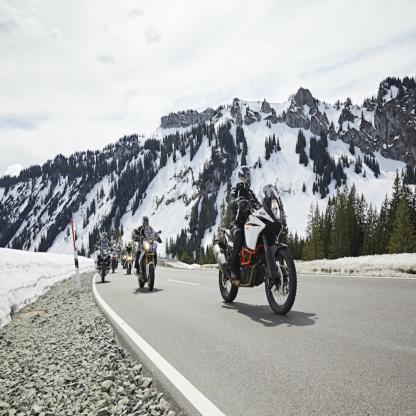helmet: (237, 166, 252, 189), (141, 215, 149, 230), (102, 231, 107, 241)
